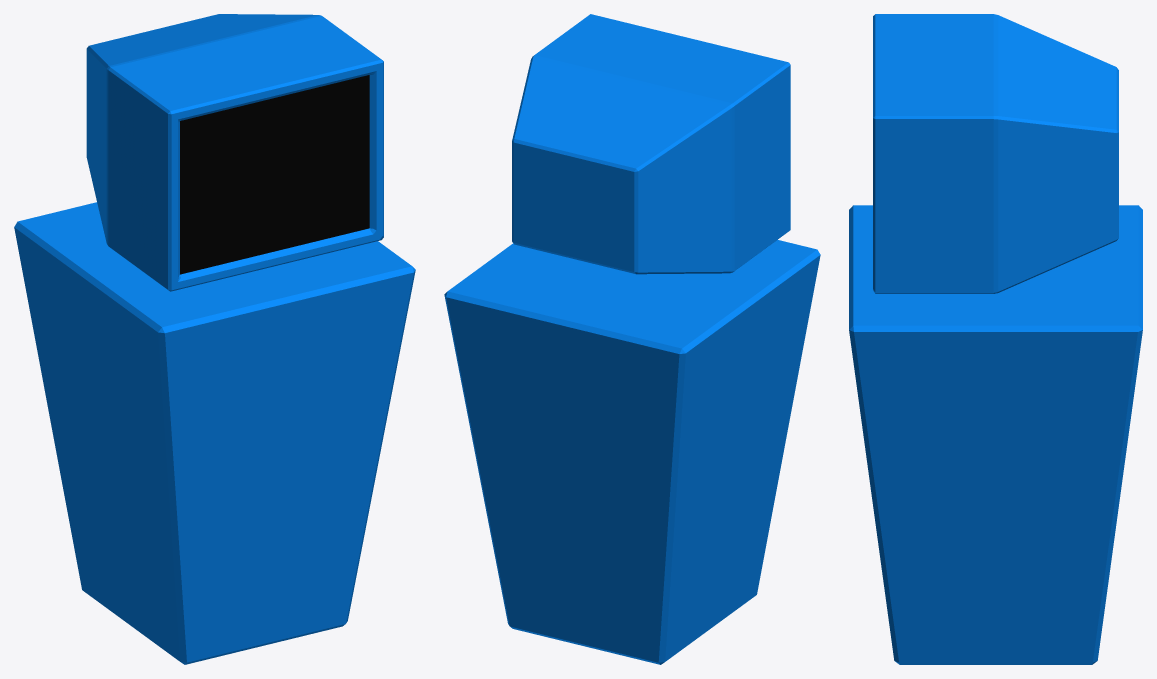
Rendered from chara_blue.glb.
The picture shows the model from 3 angles, left to right: view 1: azimuth 30°, elevation 25°; view 2: azimuth 150°, elevation 25°; view 3: azimuth 270°, elevation 25°; orthographic projection. The views are drawn at different scales.
Parts seen in each view (by area): view 1: geo1; view 2: geo1; view 3: geo1.
Part boxes in pixels (<box>): geo1: <box>14,14,415,664</box>; geo1: <box>444,14,820,664</box>; geo1: <box>849,14,1142,664</box>.
Size of the model in its own units: 0.9558 by 2.02 by 0.9563.
